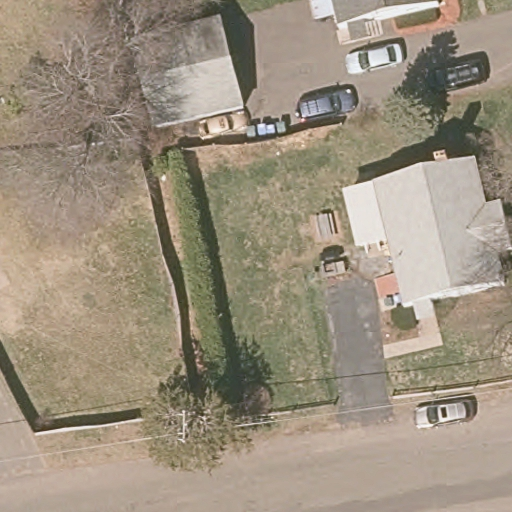DT: (164, 409, 211, 443)
